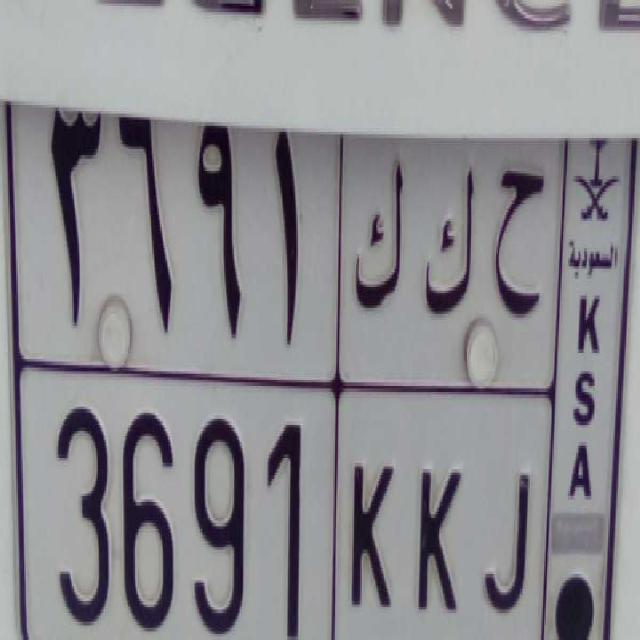license_plate: (17, 362, 543, 640)
